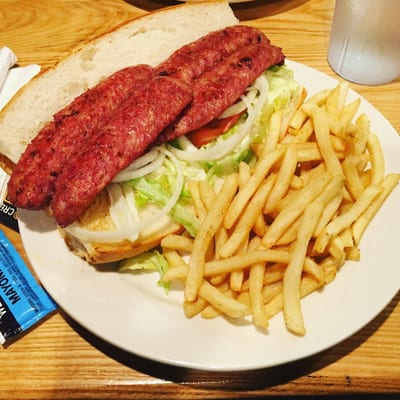pizza: (327, 0, 400, 87)
soup: (0, 8, 290, 268)
